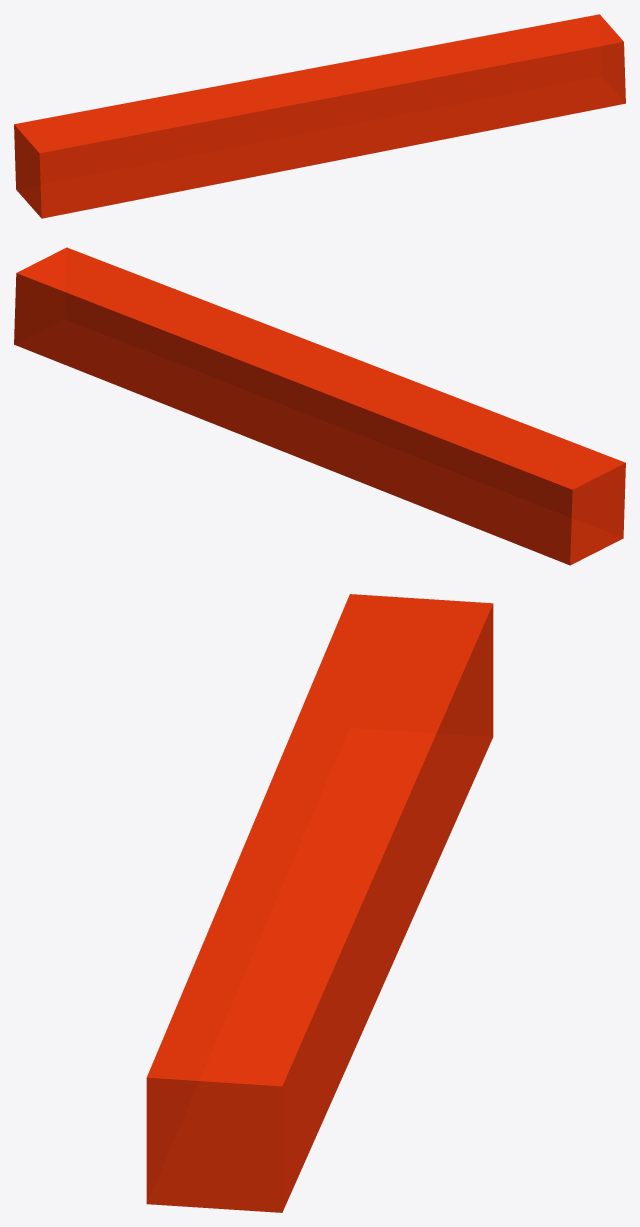
The model's file is Event_420107950_EErechit_16.fbx.
3 views of the same model, one above another, from view 1: azimuth 30°, elevation 25°; view 2: azimuth 150°, elevation 25°; view 3: azimuth 270°, elevation 25° (orthographic). The views are drawn at different scales.
Parts seen in each view (by area): view 1: Model; view 2: Model; view 3: Model.
Boxes of the visible parts, <box> form: Model: <box>14,14,625,218</box>; Model: <box>14,247,625,565</box>; Model: <box>146,594,493,1212</box>.
Size of the model in its own units: 0.6644 by 0.0987 by 0.1829.
